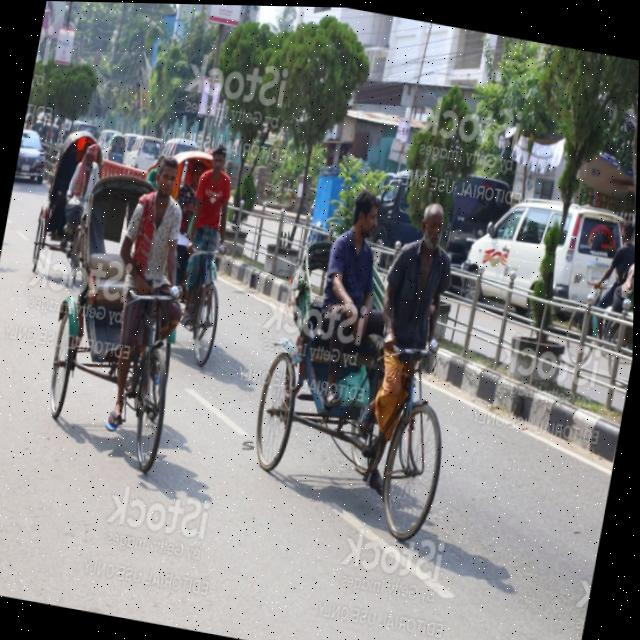rikshaw: (212, 208, 506, 585), (20, 157, 236, 533), (134, 143, 262, 375), (17, 119, 137, 323)
